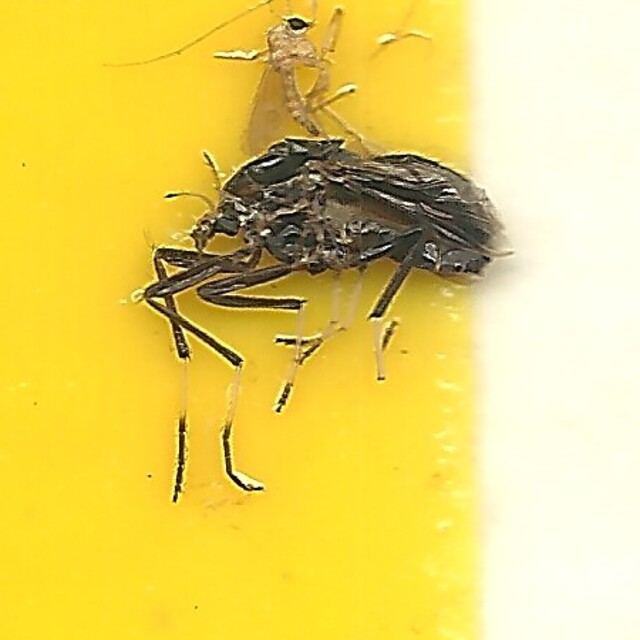Brachycera: (142, 130, 498, 510)
